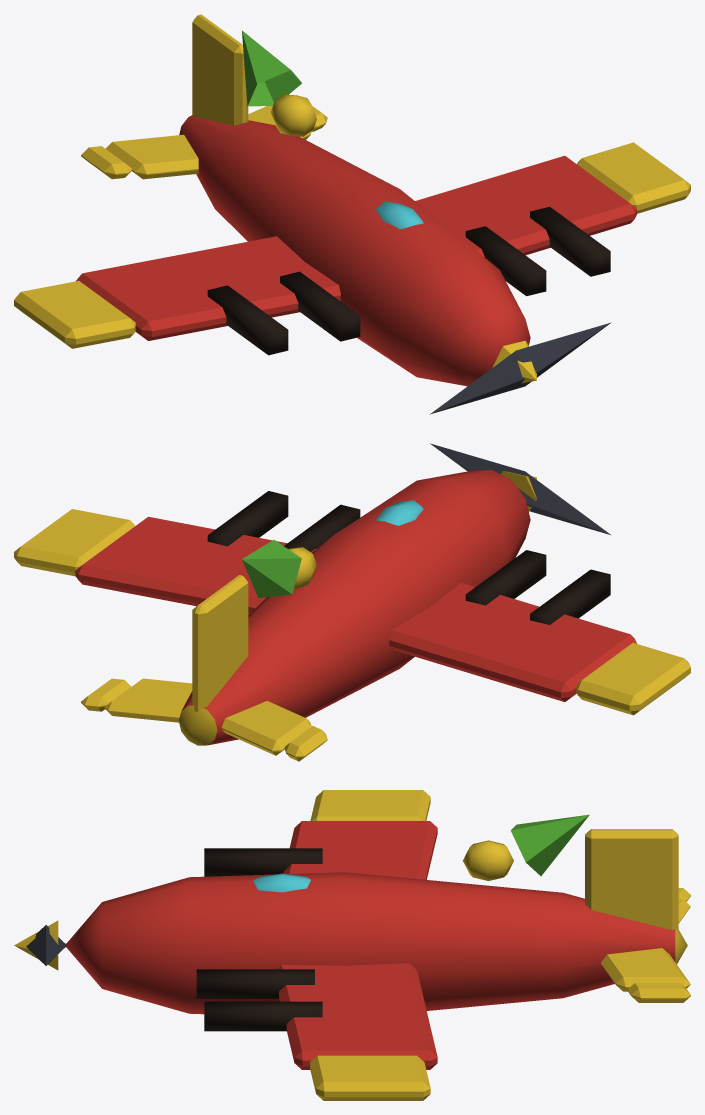
The picture shows the model from 3 angles, top to bottom: view 1: azimuth 30°, elevation 25°; view 2: azimuth 150°, elevation 25°; view 3: azimuth 270°, elevation 25°; orthographic projection. The views are drawn at different scales.
Parts seen in each view (by area): view 1: as_0_base, as_1_torreta; view 2: as_0_base, as_1_torreta; view 3: as_0_base, as_1_torreta.
Boxes of the visible parts, <box> form: as_0_base: <box>14,14,690,386</box>; as_1_torreta: <box>430,322,611,414</box>; as_0_base: <box>14,470,690,761</box>; as_1_torreta: <box>430,443,610,534</box>; as_0_base: <box>66,790,690,1100</box>; as_1_torreta: <box>14,920,66,970</box>.
Bounding box in the file's own units: 1.13 × 0.3497 × 1.09.
